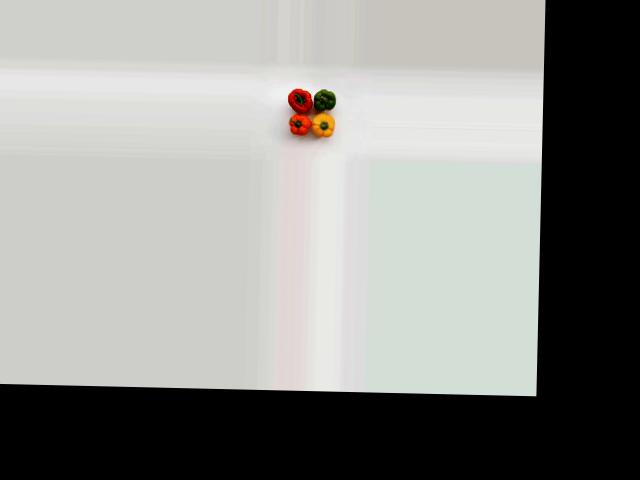bell_pepper: (308, 87, 342, 113)
